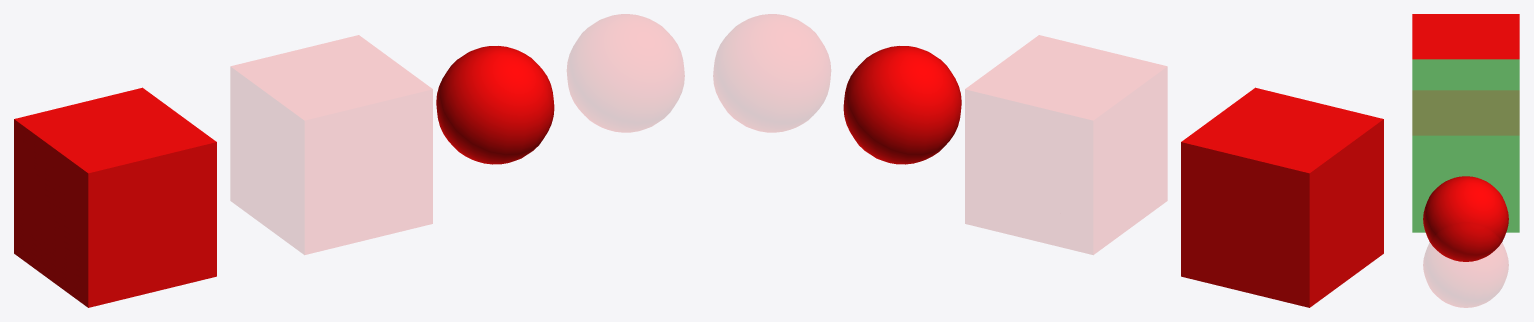
Rendered from MultiMatOpacity.gltf.
3 views of the same model, side by side, from view 1: azimuth 30°, elevation 25°; view 2: azimuth 150°, elevation 25°; view 3: azimuth 270°, elevation 25° (orthographic). The views are drawn at different scales.
Parts seen in each view (by area): view 1: pCube1, pCube2, pSphere1, pSphere2; view 2: pCube1, pCube2, pSphere1, pSphere2; view 3: pCube1, pCube2, pSphere1, pSphere2.
Part boxes in pixels (box(x1,y1,x2,y2)): pCube1: box(14, 87, 216, 307); pCube2: box(231, 35, 432, 254); pSphere1: box(436, 46, 554, 164); pSphere2: box(567, 14, 684, 131); pCube1: box(1181, 87, 1383, 307); pCube2: box(965, 35, 1166, 254); pSphere1: box(843, 46, 961, 164); pSphere2: box(713, 14, 830, 131); pCube1: box(1412, 14, 1519, 135); pCube2: box(1412, 91, 1519, 232); pSphere1: box(1423, 176, 1508, 261); pSphere2: box(1423, 223, 1508, 307).
Size of the model in its own units: 4.87 by 1 by 1.
